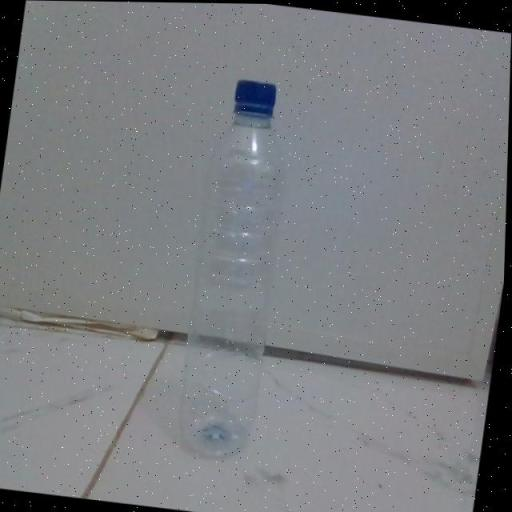plastic: (170, 73, 303, 467)
